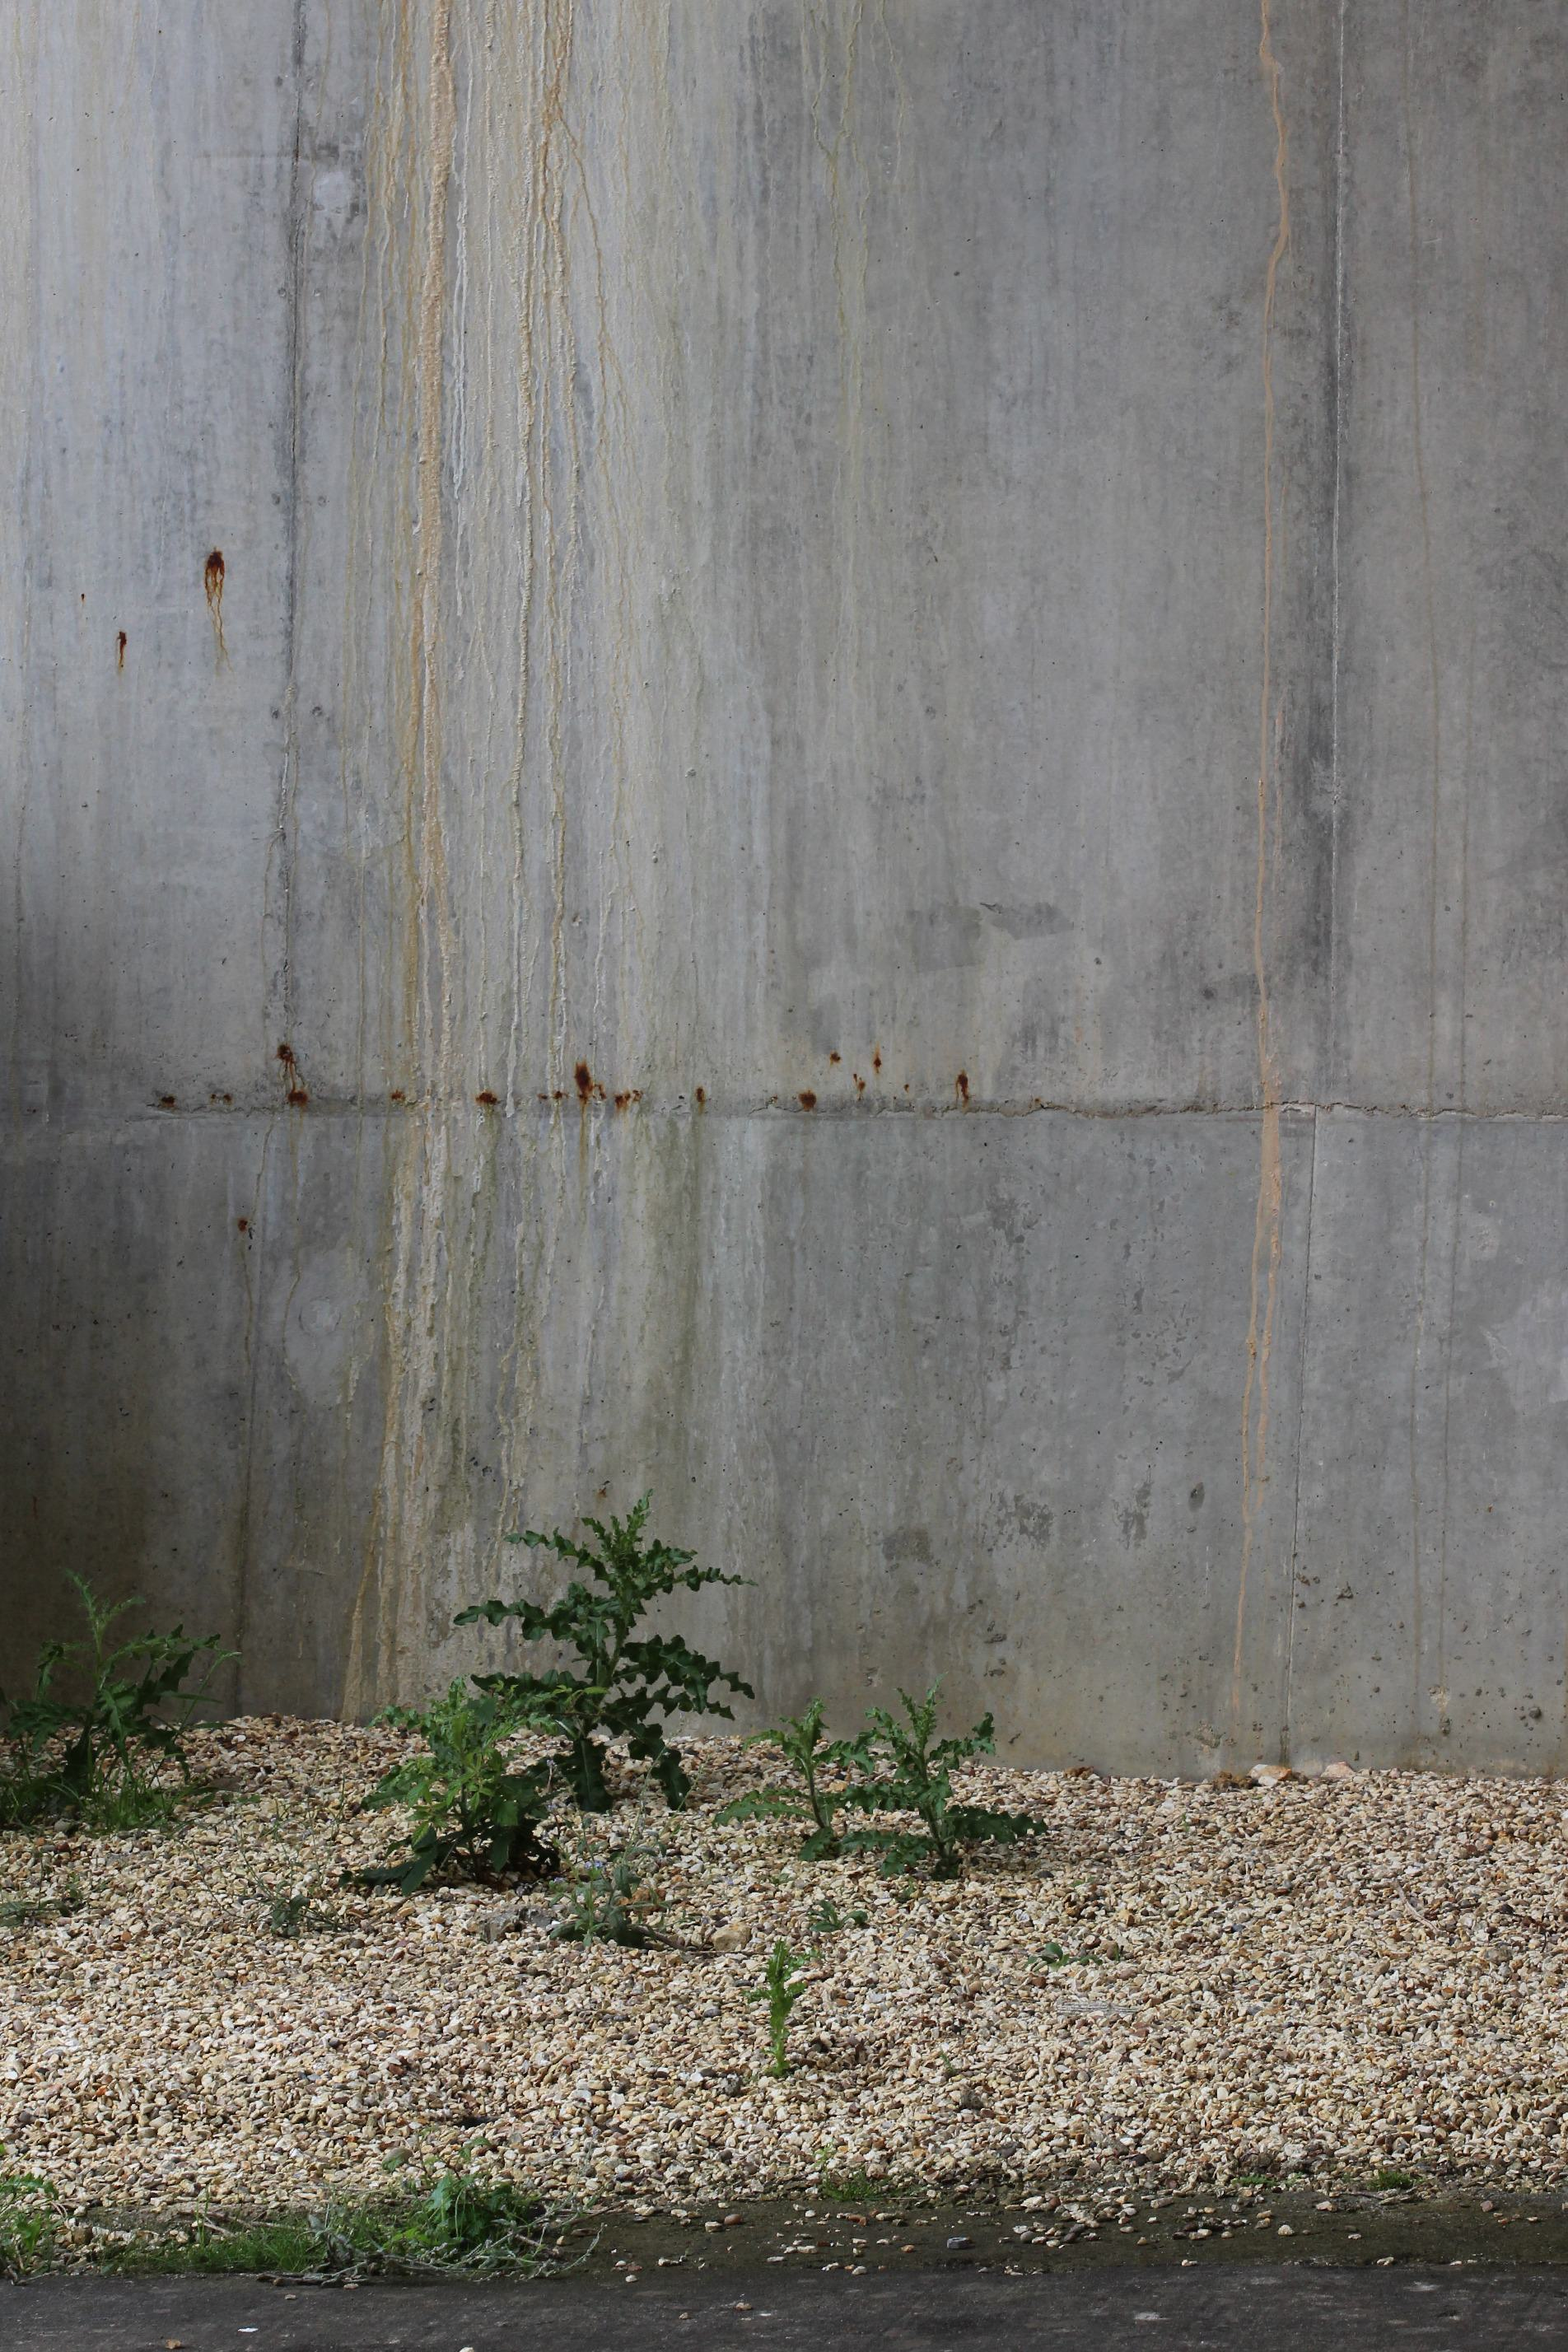Corrosion: (334, 0, 609, 1729), (1230, 0, 1291, 1743), (203, 548, 233, 672), (273, 1043, 310, 1108), (574, 1059, 609, 1104), (612, 1088, 644, 1109), (954, 1071, 969, 1108), (798, 1090, 817, 1113), (115, 630, 128, 663), (852, 1073, 868, 1097), (474, 1092, 500, 1106), (537, 1090, 563, 1101), (210, 1092, 231, 1104), (873, 1046, 882, 1073), (390, 1088, 406, 1102), (695, 1087, 705, 1104), (161, 1095, 175, 1106), (238, 1218, 248, 1232), (829, 1052, 840, 1064), (903, 1083, 910, 1092)
Spalling: (1160, 1550, 1568, 1764)
